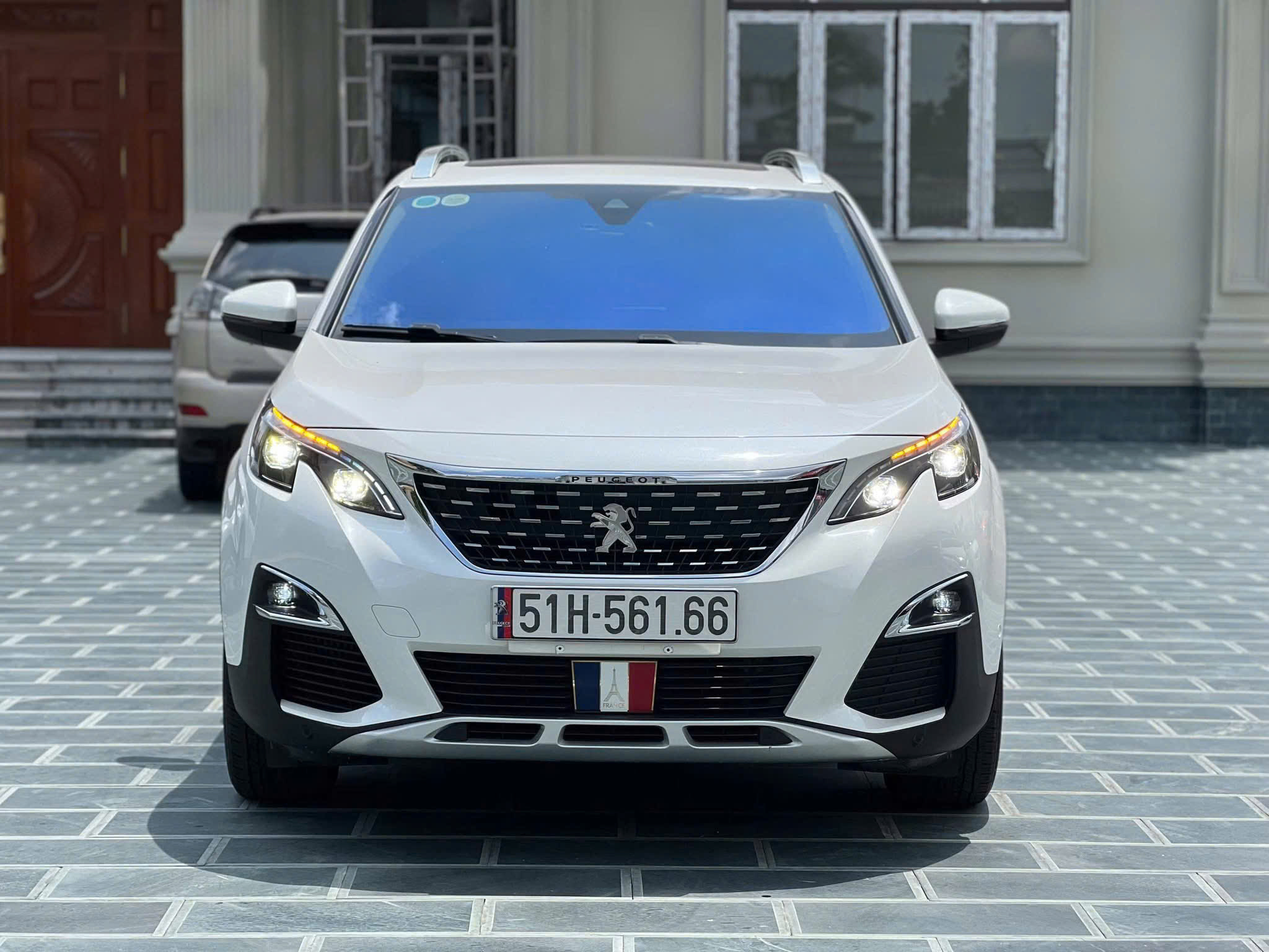Bien-so: (487, 581, 743, 649)
